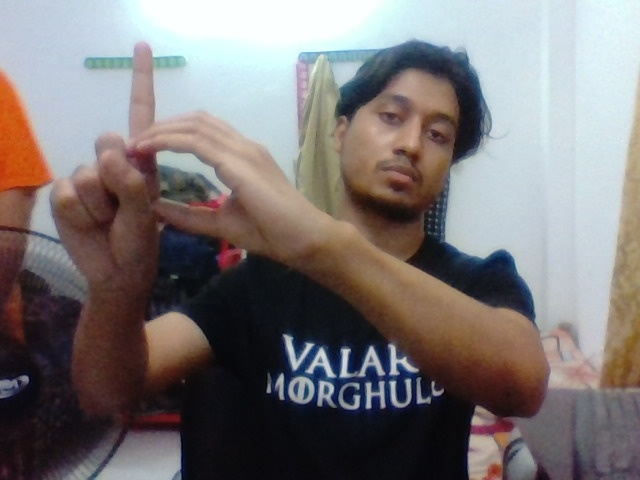D: (49, 38, 258, 255)
